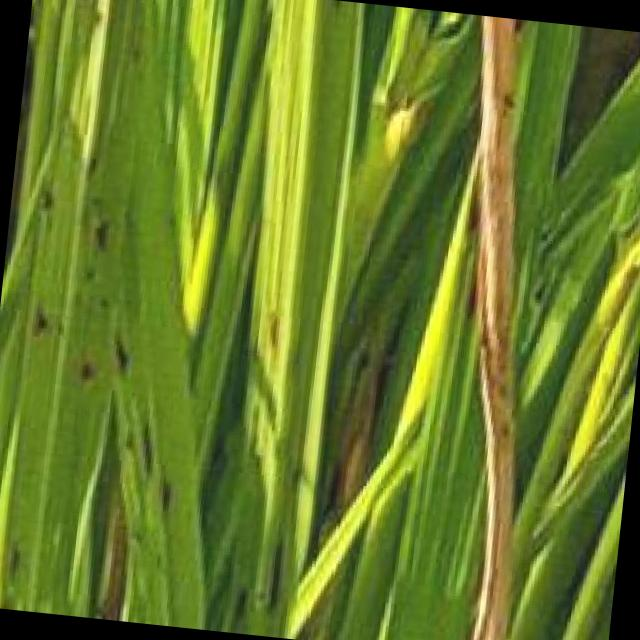Rice_Bacterial_Blight: (415, 27, 582, 640)
